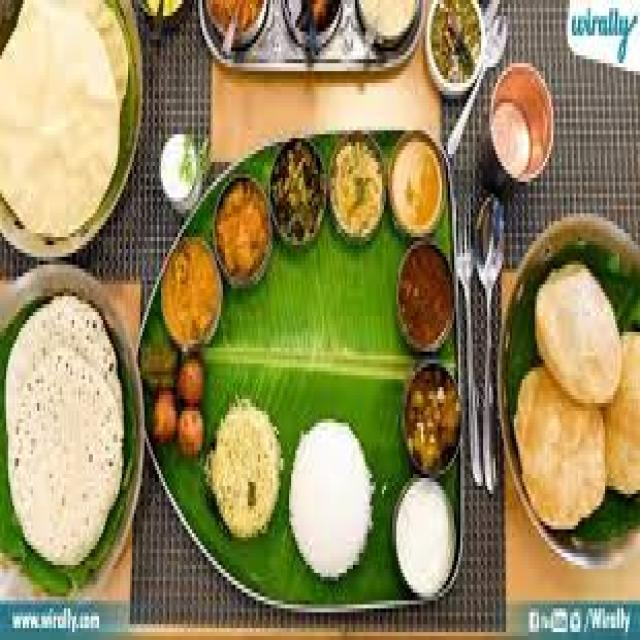curd: (387, 475, 466, 599)
dal: (159, 238, 224, 346)
papad: (513, 280, 640, 520)
rice: (284, 420, 381, 570)
sambar-rasam: (387, 131, 448, 239)
